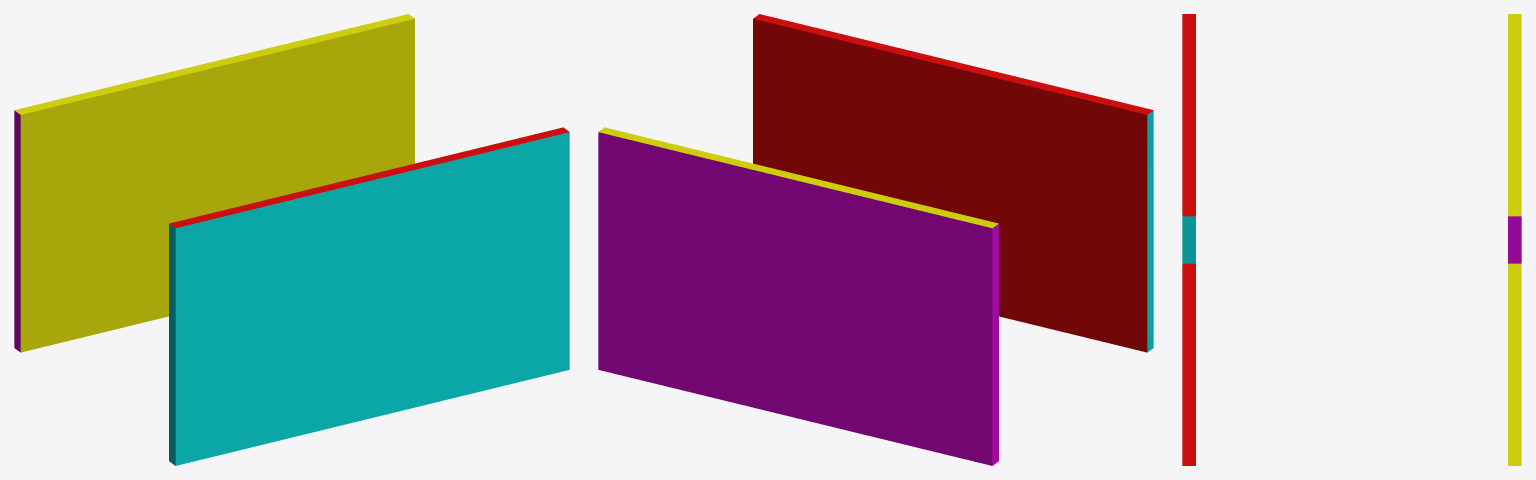
The model's file is Bathroom_Left&Right.fbx.
The picture shows the model from 3 angles, left to right: view 1: azimuth 30°, elevation 25°; view 2: azimuth 150°, elevation 25°; view 3: azimuth 270°, elevation 25°; orthographic projection. The views are drawn at different scales.
Parts seen in each view (by area): view 1: polySurface3, polySurface1; view 2: polySurface1, polySurface3; view 3: polySurface1, polySurface3.
Boxes of the visible parts, box(x1,y1,x2,y2) form: polySurface3: box(169, 127, 569, 465); polySurface1: box(14, 14, 414, 352); polySurface1: box(598, 127, 998, 465); polySurface3: box(753, 14, 1153, 352); polySurface1: box(1508, 14, 1521, 465); polySurface3: box(1182, 14, 1195, 465).
Bounding box in the file's own units: 1429 × 823 × 1013.
